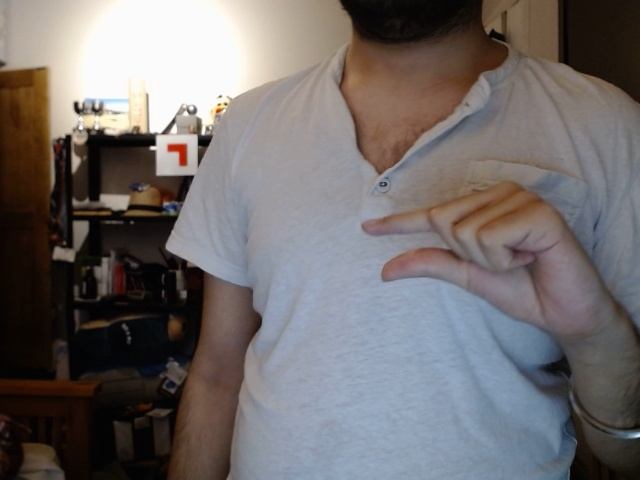Small: (358, 181, 631, 326)
